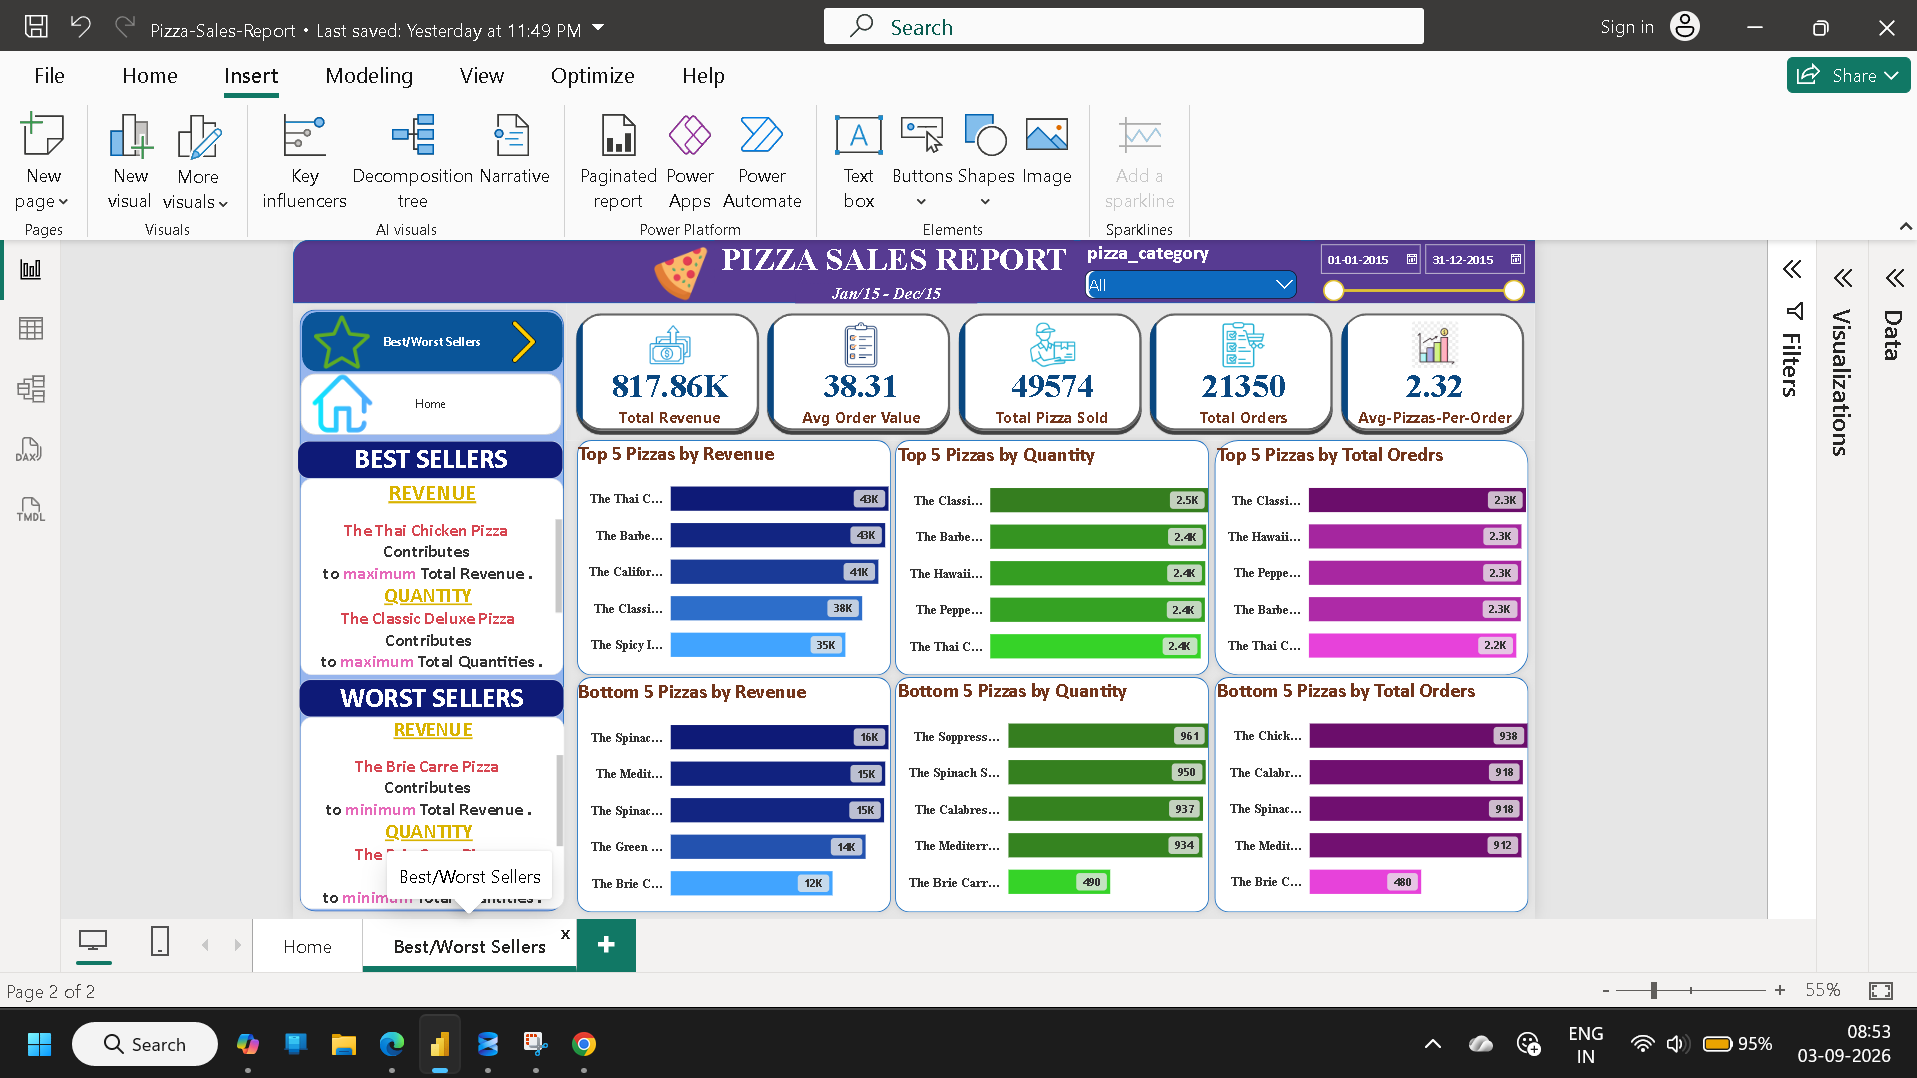

The page's visual inventory and layout, read from the dashboard file:
{"tool":"powerbi","page":{"name":"Best/Worst Sellers","canvas":[1500,820],"ordinal":1},"visuals":[{"type":"shape","box":[0,76.1,335.1,742.7],"z":0},{"type":"cardVisual","fields":{"Data":["pizza_sales.Total Revenue","pizza_sales.Avg Order Value","pizza_sales.Total Pizza Sold","pizza_sales.Total Orders","pizza_sales.Avg Pizzas Per Order"]},"box":[329.7,76.1,1170.2,166.7],"z":1000},{"type":"shape","box":[0,0,2560.9,76.3],"z":2000},{"type":"textbox","title":"PIZZA SALES REPORT","box":[509,0,434.2,52.5],"z":3000},{"type":"textbox","title":"Jan/15 - Dec/15 ","box":[606.9,52.5,219.5,23.9],"z":4000},{"type":"image","box":[427.5,7.2,81.1,66.8],"z":5000},{"type":"shape","box":[335.1,233.7,395,300],"z":6000},{"type":"shape","box":[1619.2,375.4,941.6,505.8],"z":8000},{"type":"areaChart","title":"Monthly Trend for Total Orders","fields":{"Category":["pizza_sales.Order Month"],"Y":["pizza_sales.Total Orders"]},"box":[1644.7,397.7,890.7,461.3],"z":9000},{"type":"shape","box":[677.6,884.4,658.5,556.7],"z":10000},{"type":"shape","box":[1931,881.2,629.9,559.9],"z":11000},{"type":"shape","box":[1336.1,884.4,594.9,556.7],"z":12000},{"type":"donutChart","fields":{"Category":["pizza_sales.pizza_category"],"Y":["pizza_sales.Total Revenue"]},"box":[699.9,906.6,614,512.2],"z":13000},{"type":"textbox","title":"REVENUE","box":[9.1,288,317,237.3],"z":20000},{"type":"textbox","title":"BEST SELLERS","box":[5.4,242.7,320.6,45.3],"z":23000},{"type":"textbox","title":"REVENUE","box":[9.1,576.1,318.8,231.9],"z":24000},{"type":"textbox","title":"WORST SELLERS","box":[7,530.8,320,45.3],"z":25000},{"type":"slicer","fields":{"Values":["pizza_sales.pizza_category"]},"box":[951.1,0,266.3,74.3],"z":26000},{"type":"slicer","fields":{"Values":["pizza_sales.order_date"]},"box":[1233.7,0,257.2,76.1],"z":27000},{"type":"shape","box":[719.2,233.7,395,300],"z":27001},{"type":"shape","box":[1105,233.7,395,300],"z":27002},{"type":"shape","box":[335.1,519.9,395,300],"z":27003},{"type":"shape","box":[719.2,519.9,395,300],"z":27005},{"type":"shape","box":[1105,519.9,395,300],"z":27006},{"type":"barChart","title":"Top 5 Pizzas by Revenue","fields":{"Category":["pizza_sales.pizza_name"],"Y":["pizza_sales.Total Revenue"]},"box":[344.2,243,375,280],"z":27007},{"type":"barChart","title":"Bottom 5 Pizzas by Revenue","fields":{"Category":["pizza_sales.pizza_name"],"Y":["pizza_sales.Total Revenue"]},"box":[344.2,530.8,375,280],"z":27008},{"type":"barChart","title":"Top 5 Pizzas by Quantity","fields":{"Category":["pizza_sales.pizza_name"],"Y":["pizza_sales.Total Pizza Sold"]},"box":[730,244.6,375,280],"z":27009},{"type":"barChart","title":"Bottom 5 Pizzas by Quantity","fields":{"Category":["pizza_sales.pizza_name"],"Y":["pizza_sales.Total Pizza Sold"]},"box":[730,529,375,280],"z":27010},{"type":"barChart","title":"Top 5 Pizzas by Total Oredrs","fields":{"Category":["pizza_sales.pizza_name"],"Y":["pizza_sales.Total Orders"]},"box":[1115.9,244.6,373.2,279],"z":27011},{"type":"barChart","title":"Bottom 5 Pizzas by Total Orders","fields":{"Category":["pizza_sales.pizza_name"],"Y":["pizza_sales.Total Orders"]},"box":[1115.9,529,375,280],"z":27012},{"type":"pageNavigator","box":[10.9,87,315,72],"z":27013},{"type":"pageNavigator","box":[9.1,162,315.2,74.3],"z":27014},{"type":"image","box":[253.6,87,50.7,72.5],"z":27015},{"type":"image","box":[21.7,161.2,76.1,72.5],"z":27016},{"type":"image","box":[25.4,87,67,72.5],"z":27017}]}

Visuals, with their boxes on the page's 1500x820 design canvas (x1, y1, x2, y2). These are canvas units, not pixel positions in the 1917x1078 screenshot, which may show the page scaled, cropped or inside an application window:
shape: (0,76,335,819)
cardVisual - pizza_sales.Total Revenue x pizza_sales.Avg Order Value: (330,76,1500,243)
shape: (0,0,2561,76)
"PIZZA SALES REPORT" textbox: (509,0,943,52)
"Jan/15 - Dec/15 " textbox: (607,52,826,76)
image: (428,7,509,74)
shape: (335,234,730,534)
shape: (1619,375,2561,881)
"Monthly Trend for Total Orders" areaChart: (1645,398,2535,859)
shape: (678,884,1336,1441)
shape: (1931,881,2561,1441)
shape: (1336,884,1931,1441)
donutChart - pizza_sales.pizza_category x pizza_sales.Total Revenue: (700,907,1314,1419)
"REVENUE" textbox: (9,288,326,525)
"BEST SELLERS" textbox: (5,243,326,288)
"REVENUE" textbox: (9,576,328,808)
"WORST SELLERS" textbox: (7,531,327,576)
slicer - pizza_sales.pizza_category: (951,0,1217,74)
slicer - pizza_sales.order_date: (1234,0,1491,76)
shape: (719,234,1114,534)
shape: (1105,234,1500,534)
shape: (335,520,730,820)
shape: (719,520,1114,820)
shape: (1105,520,1500,820)
"Top 5 Pizzas by Revenue" barChart: (344,243,719,523)
"Bottom 5 Pizzas by Revenue" barChart: (344,531,719,811)
"Top 5 Pizzas by Quantity" barChart: (730,245,1105,525)
"Bottom 5 Pizzas by Quantity" barChart: (730,529,1105,809)
"Top 5 Pizzas by Total Oredrs" barChart: (1116,245,1489,524)
"Bottom 5 Pizzas by Total Orders" barChart: (1116,529,1491,809)
pageNavigator: (11,87,326,159)
pageNavigator: (9,162,324,236)
image: (254,87,304,160)
image: (22,161,98,234)
image: (25,87,92,160)
